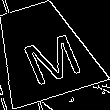M_N: (8, 20, 78, 83)
